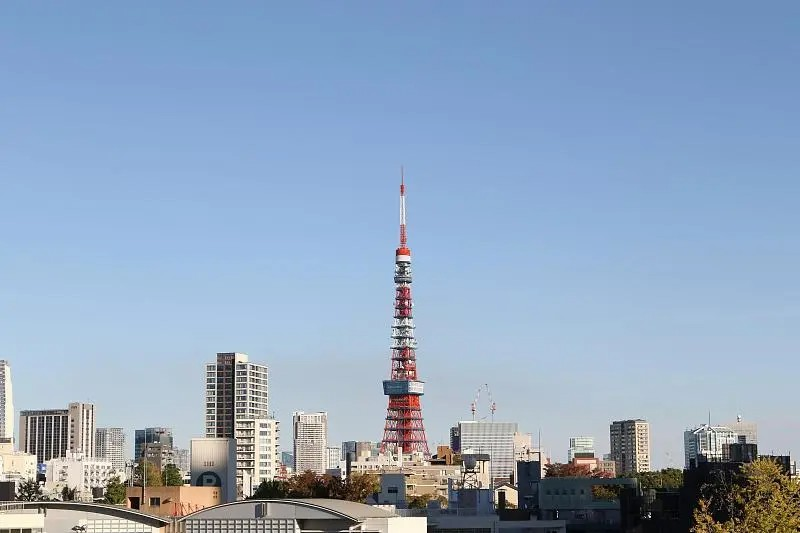Tokyo: (379, 161, 432, 463)
